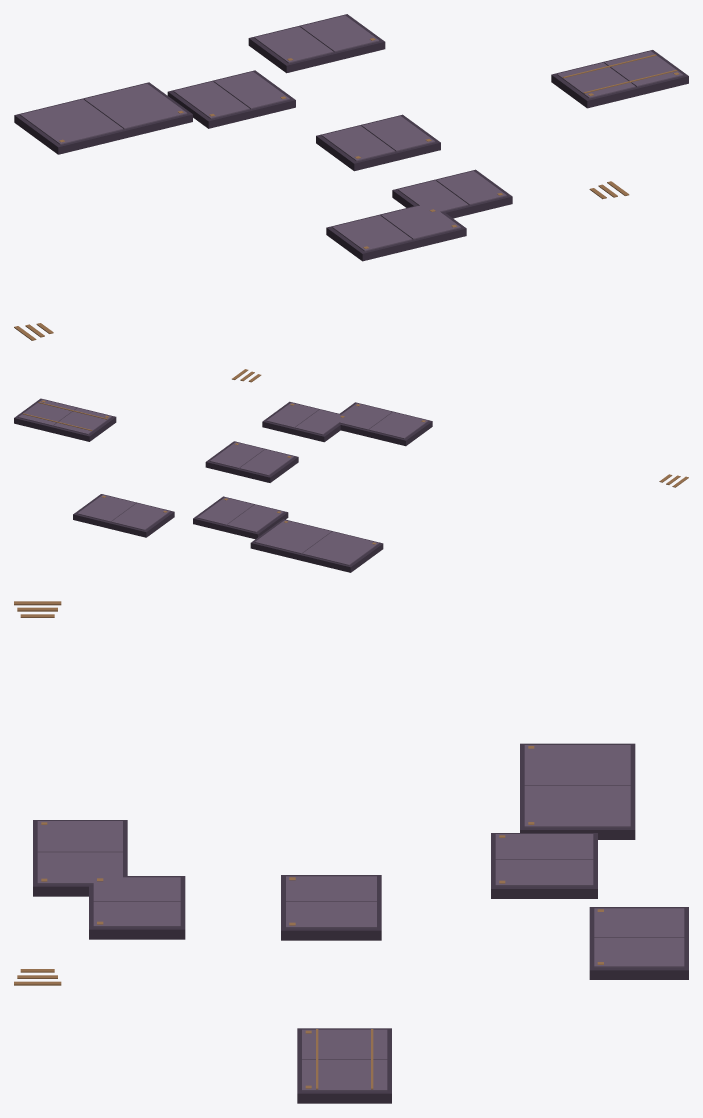
The model's file is R06-architecture.glb.
3 renders of one model, top to bottom at view 1: azimuth 30°, elevation 25°; view 2: azimuth 150°, elevation 25°; view 3: azimuth 270°, elevation 25°, orthographic. The views are drawn at different scales.
Parts seen in each view (by area): view 1: Prism machinery bed • seat 2, Prism machinery bed • seat 1, Prism machinery bed • bedding, Spectrum window bed • bedding, Shutter runner • bedding, Counting table seat • bedding, Counting table seat • seat 1, Spectrum window bed • seat 2, Spectrum window bed • seat 1, Counting table seat • seat 2, Threshold gauge sill • bedding, Combiner sill • seat 1 (+9 smaller); view 2: Prism machinery bed • seat 1, Prism machinery bed • seat 2, Prism machinery bed • bedding, Shutter runner • bedding, Spectrum window bed • bedding, Counting table seat • seat 1, Spectrum window bed • seat 1, Spectrum window bed • seat 2, Threshold gauge sill • bedding, Counting table seat • seat 2, Counting table seat • bedding, Combiner sill • seat 1 (+9 smaller); view 3: Prism machinery bed • seat 2, Prism machinery bed • seat 1, Spectrum window bed • seat 2, Counting table seat • seat 2, Counting table seat • seat 1, Spectrum window bed • seat 1, Combiner sill • seat 2, Shutter runner • seat 2, Combiner sill • seat 1, Shutter runner • seat 1, Threshold gauge sill • seat 2, Threshold gauge sill • seat 1 (+9 smaller).
Boxes of the visible parts, box(x1,y1,x2,y2) form: Prism machinery bed • seat 2: box(84, 83, 187, 129); Prism machinery bed • seat 1: box(20, 99, 123, 144); Prism machinery bed • bedding: box(14, 82, 192, 154); Spectrum window bed • bedding: box(248, 14, 385, 73); Shutter runner • bedding: box(551, 50, 688, 108); Counting table seat • bedding: box(326, 205, 466, 261); Counting table seat • seat 1: box(332, 215, 412, 251); Spectrum window bed • seat 2: box(300, 15, 379, 52); Spectrum window bed • seat 1: box(254, 26, 333, 63); Counting table seat • seat 2: box(381, 203, 460, 239); Threshold gauge sill • bedding: box(316, 114, 440, 171); Combiner sill • seat 1: box(173, 81, 249, 118); Prism machinery bed • seat 1: box(302, 531, 378, 565); Prism machinery bed • seat 2: box(255, 520, 331, 553); Prism machinery bed • bedding: box(250, 519, 383, 572); Shutter runner • bedding: box(14, 398, 116, 441); Spectrum window bed • bedding: box(73, 494, 174, 537); Counting table seat • seat 1: box(369, 412, 428, 438); Spectrum window bed • seat 1: box(111, 503, 170, 530); Spectrum window bed • seat 2: box(77, 495, 135, 521); Threshold gauge sill • bedding: box(205, 441, 298, 482); Counting table seat • seat 2: box(333, 403, 392, 429); Counting table seat • bedding: box(339, 402, 432, 446); Combiner sill • seat 1: box(227, 504, 283, 532); Prism machinery bed • seat 2: box(524, 786, 630, 827); Prism machinery bed • seat 1: box(524, 745, 630, 785); Spectrum window bed • seat 2: box(594, 937, 684, 967); Counting table seat • seat 2: box(37, 852, 122, 884); Counting table seat • seat 1: box(37, 821, 122, 852); Spectrum window bed • seat 1: box(594, 908, 684, 937); Combiner sill • seat 2: box(495, 860, 593, 886); Shutter runner • seat 2: box(302, 1060, 387, 1091); Combiner sill • seat 1: box(495, 834, 593, 859); Shutter runner • seat 1: box(302, 1029, 387, 1059); Threshold gauge sill • seat 2: box(286, 902, 376, 928); Threshold gauge sill • seat 1: box(286, 876, 376, 901).
Bounding box in the file's own units: 12.25 × 0.14 × 7.13.
